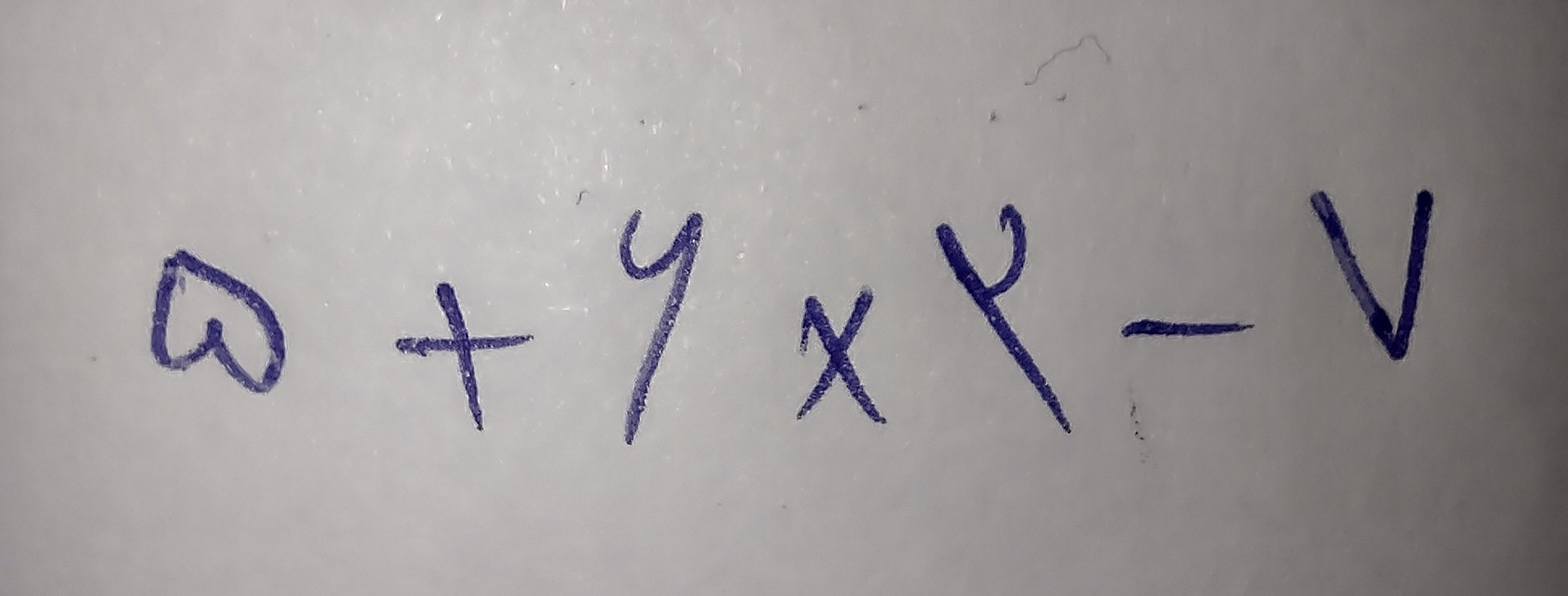character: (936, 202, 1074, 435), (1310, 184, 1435, 362), (394, 281, 533, 432), (617, 207, 703, 448), (151, 248, 287, 396), (798, 284, 891, 425), (1121, 318, 1256, 340)
